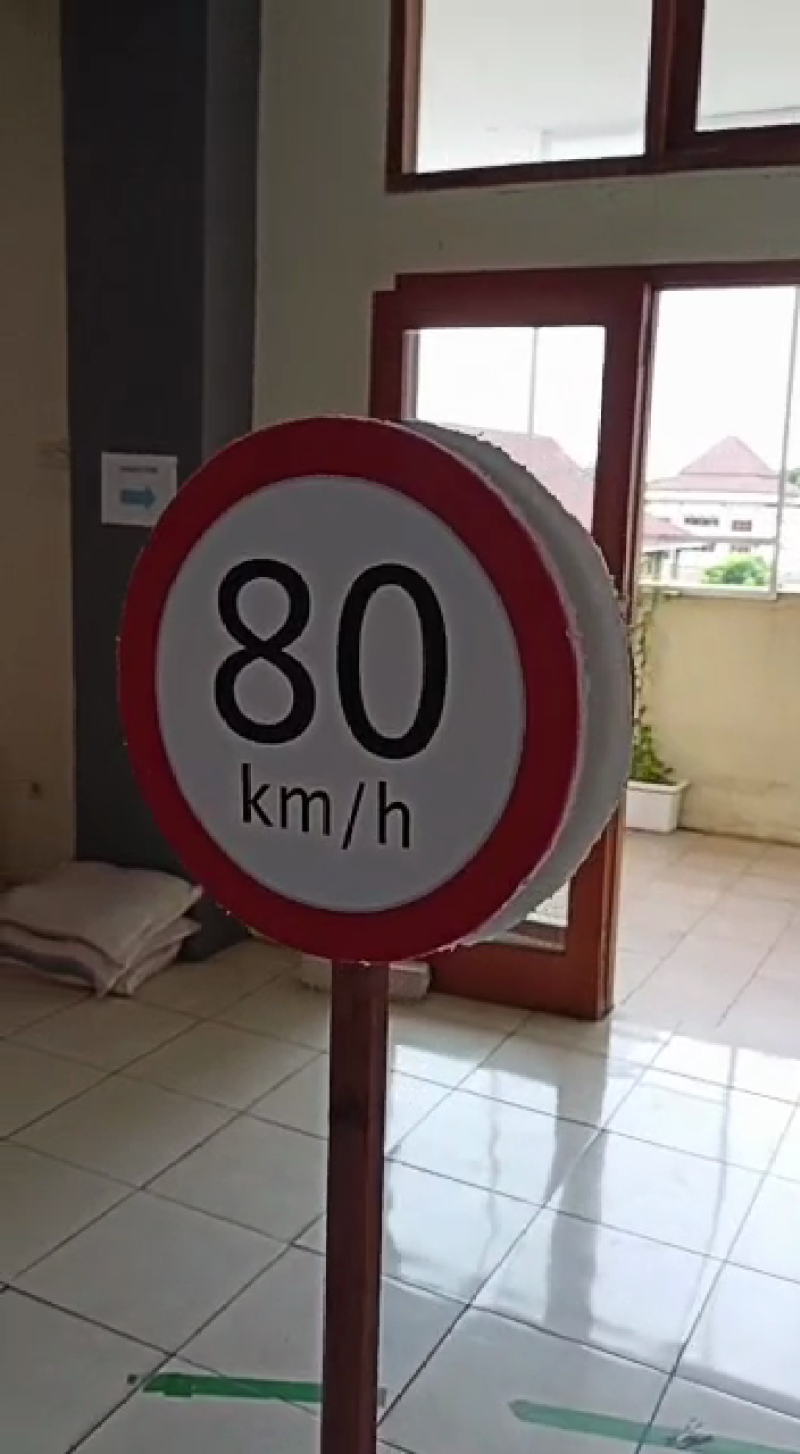batas maksimal 80kmperjam: (107, 403, 587, 969)
